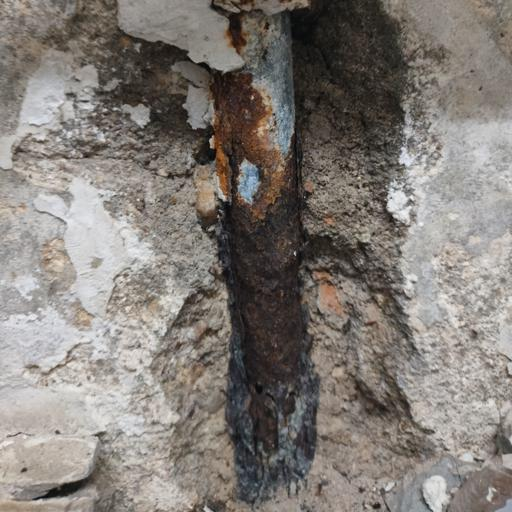spalling: (2, 0, 459, 509)
